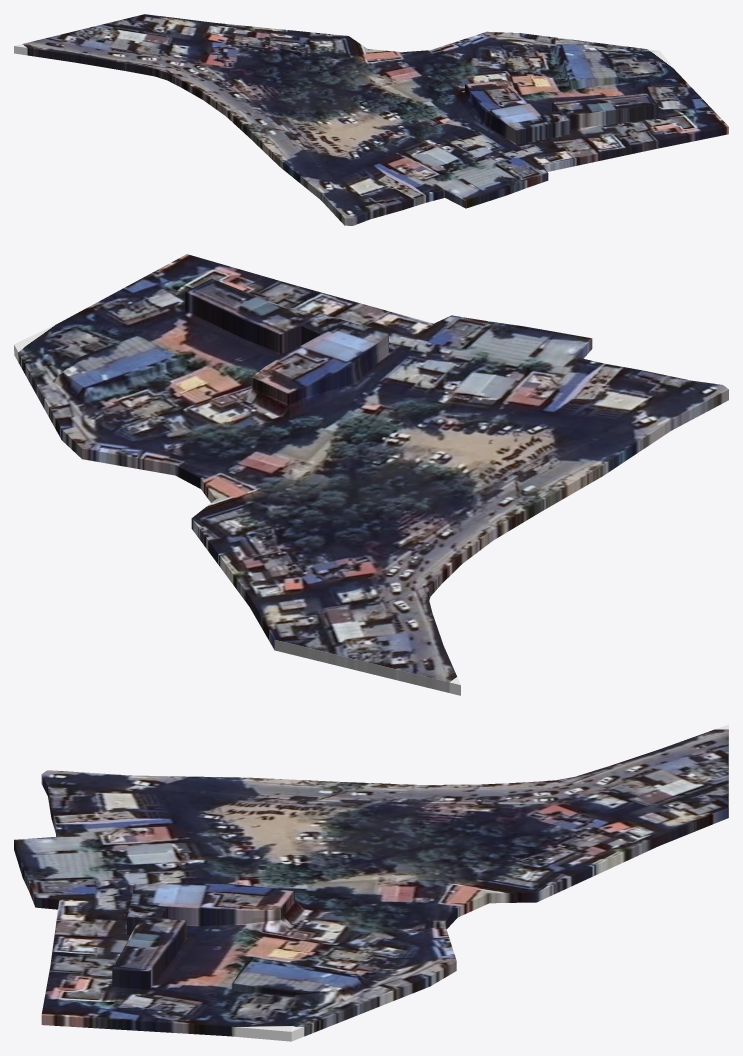
Rendered from mainArea.glb.
3 renders of one model, top to bottom at view 1: azimuth 30°, elevation 25°; view 2: azimuth 150°, elevation 25°; view 3: azimuth 270°, elevation 25°, orthographic. The views are drawn at different scales.
Parts seen in each view (by area): view 1: Plane; view 2: Plane; view 3: Plane.
Boxes of the visible parts, x1=… form: Plane: x1=14, y1=14, x2=728, y2=225; Plane: x1=14, y1=254, x2=728, y2=695; Plane: x1=14, y1=724, x2=728, y2=1041.
Size of the model in its own units: 23.35 by 0.9955 by 22.94.
1 material, 1 textured.
